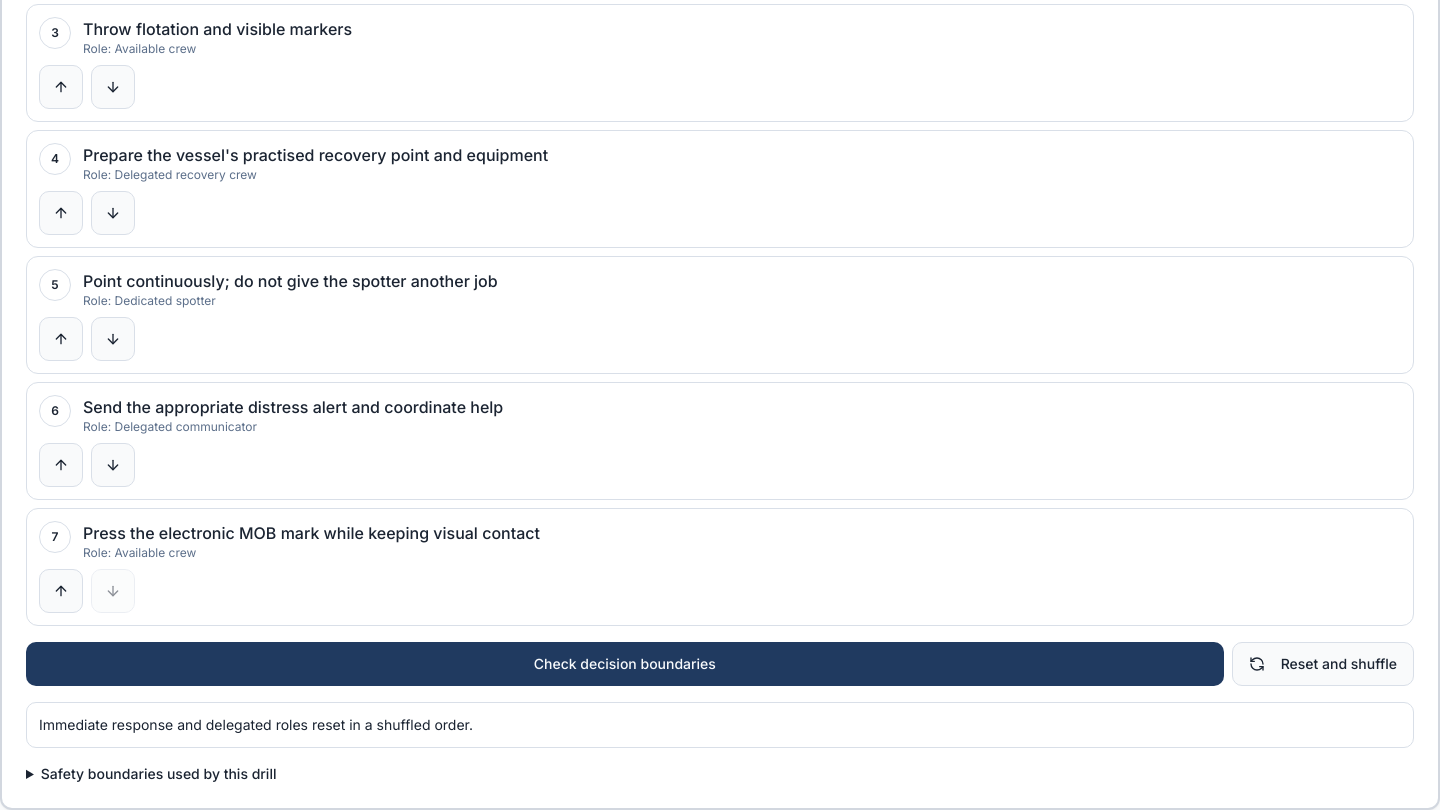
Scenario: MOB drill contract › consumes reviewed outcomes and exposes every non-negotiable boundary
The image size is (1440, 810).
(page scrolled)
Click the heading "Safety boundaries used by this drill". click: (159, 774)
box: x1=41 y1=765 x2=276 y2=782
(page scrolled)
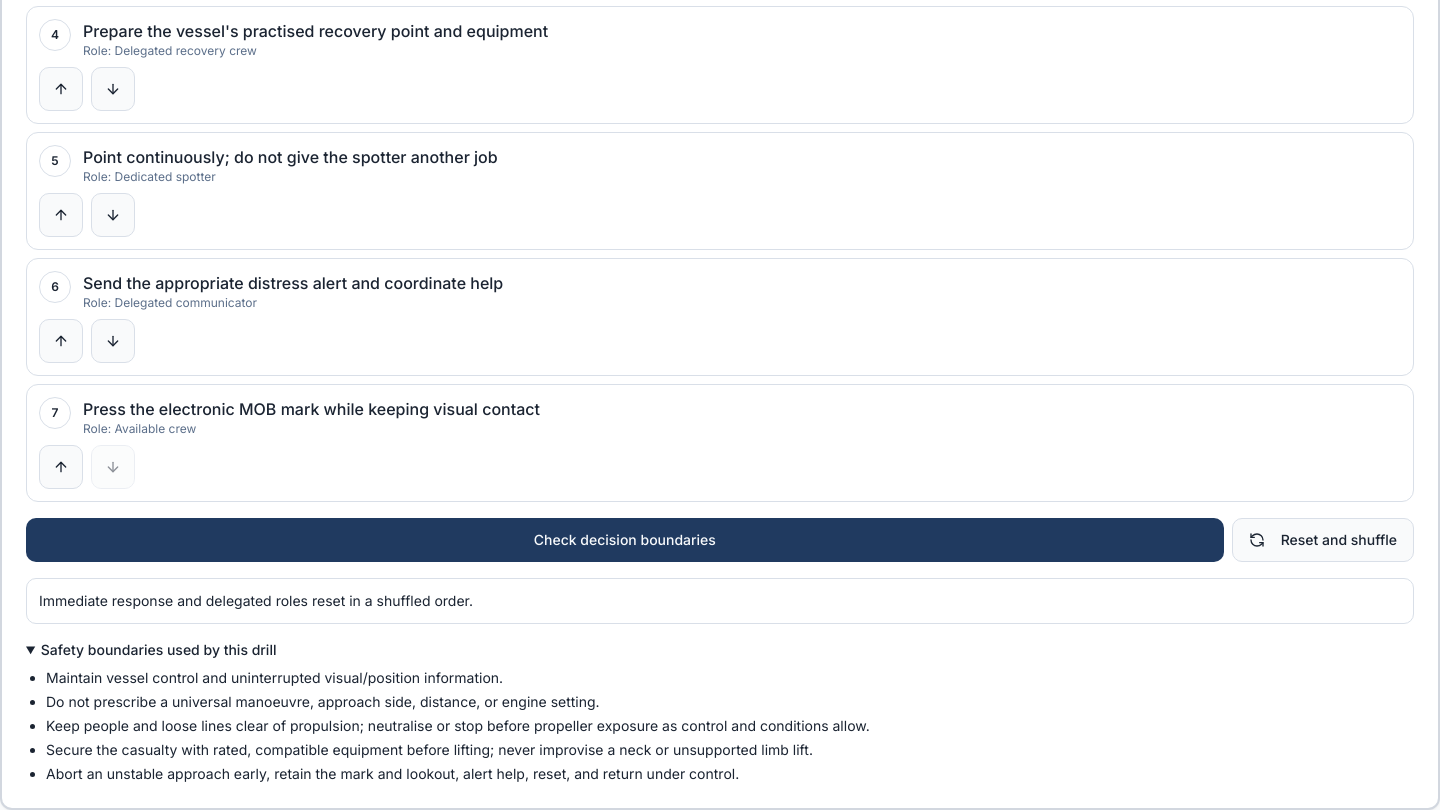
expect the list item "Maintain vessel control and uninterrupted visual/position information." is shown: met, box x1=46 y1=669 x2=503 y2=686
expect the list item "Do not prescribe a universal manoeuvre, approach side, distance, or engine setting." is shown: met, box x1=46 y1=693 x2=600 y2=710
expect the list item "Keep people and loose lines clear of propulsion; neutralise or stop before propeller exposure as control and conditions " is shown: met, box x1=46 y1=717 x2=870 y2=734
